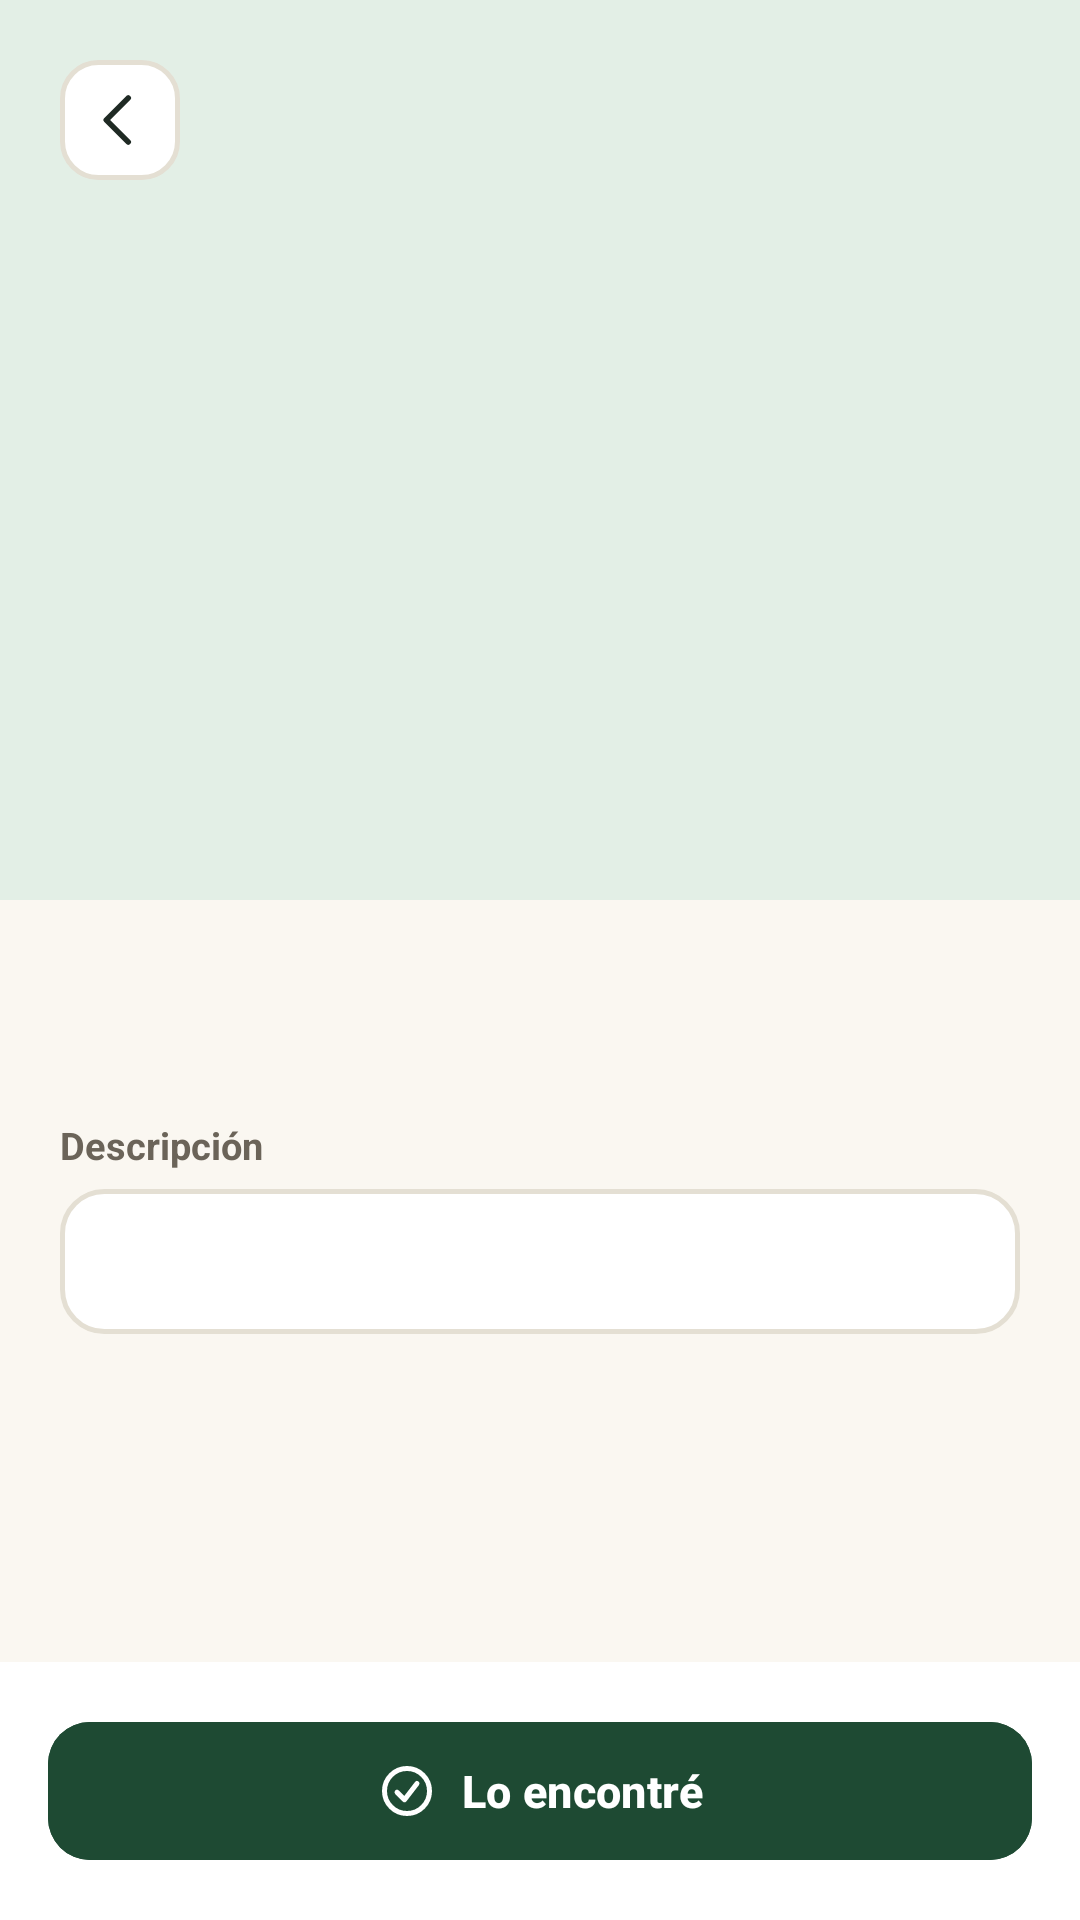

Icons on this 1080w x 1920h Android screen, each with its box as detection(x1, y1, x2, y2):
← Atrás: detection(65, 65, 175, 175)
